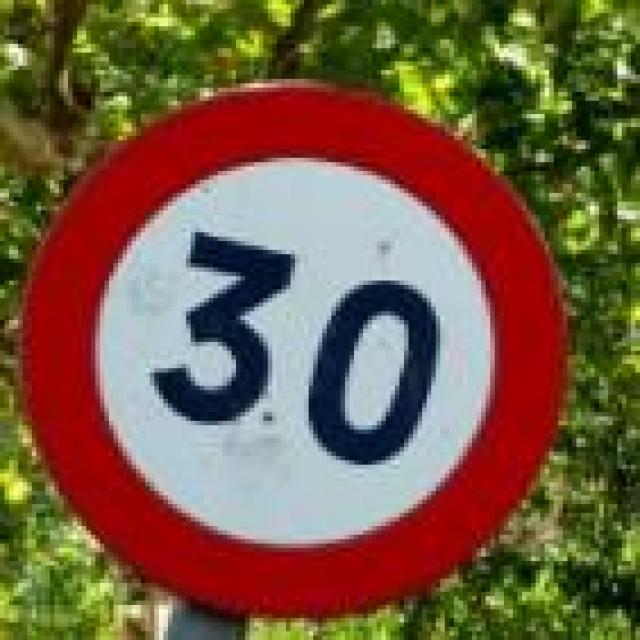traffic_sign: (14, 79, 562, 618)
